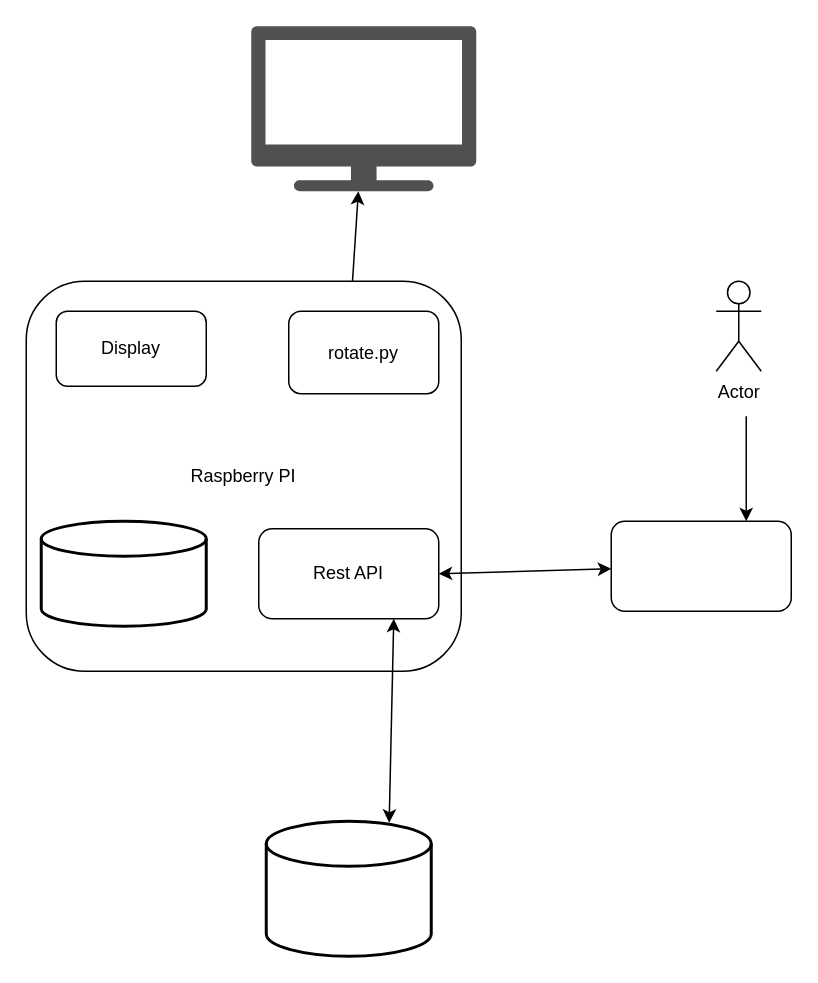
Image size: 818x983. Some labels were removed from this diagram. Each missing label, with the box of its shape:
image cache: (39, 519, 207, 627)
Photo Database: (264, 819, 432, 957)
Website: (610, 520, 791, 611)
